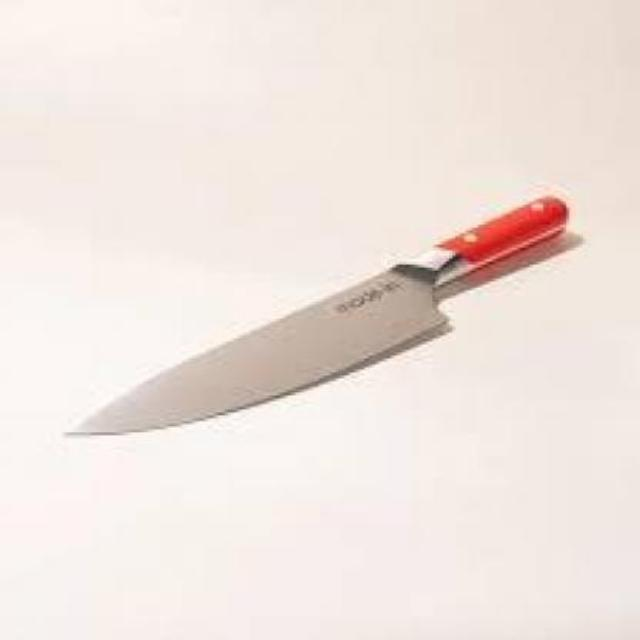Knife: (66, 198, 570, 436)
